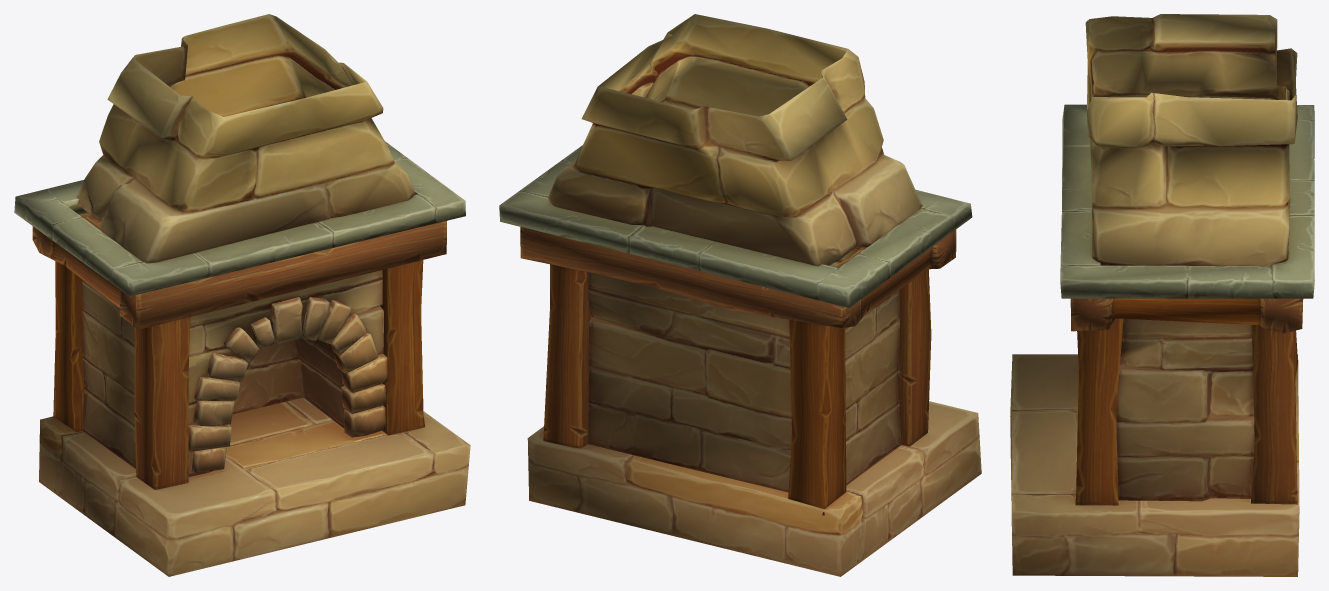
Rendered from Fireplace_fireplace.gltf.
The picture shows the model from 3 angles, left to right: view 1: azimuth 30°, elevation 25°; view 2: azimuth 150°, elevation 25°; view 3: azimuth 270°, elevation 25°; orthographic projection. The views are drawn at different scales.
Visible parts, largest first — view 1: Fireplace_fireplace; view 2: Fireplace_fireplace; view 3: Fireplace_fireplace.
Part boxes in pixels (x1,y1,x2,y2): Fireplace_fireplace: (14,14,470,576); Fireplace_fireplace: (499,14,981,576); Fireplace_fireplace: (1010,14,1314,576).
Size of the model in its own units: 1.87 by 2.2 by 1.35.
1 material, 1 textured.
